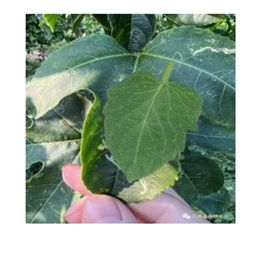liriomyza: (97, 138, 121, 170), (189, 43, 235, 59), (138, 176, 148, 195)
